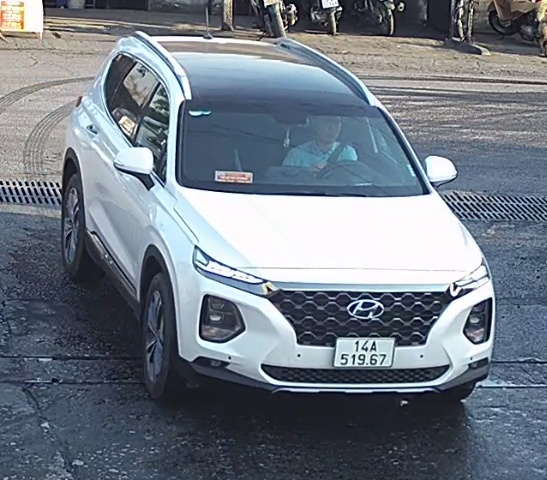vehicle plate: (331, 333, 398, 372)
